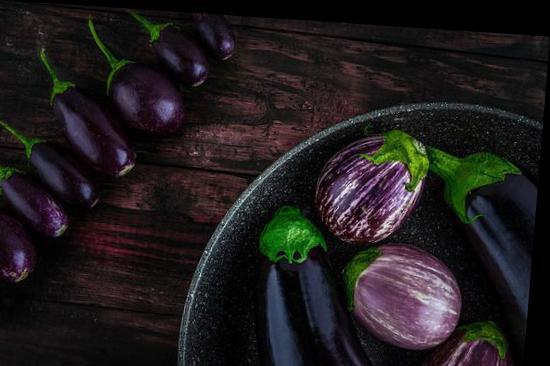eggplant: (299, 113, 445, 244), (344, 235, 478, 348), (408, 307, 529, 365)
